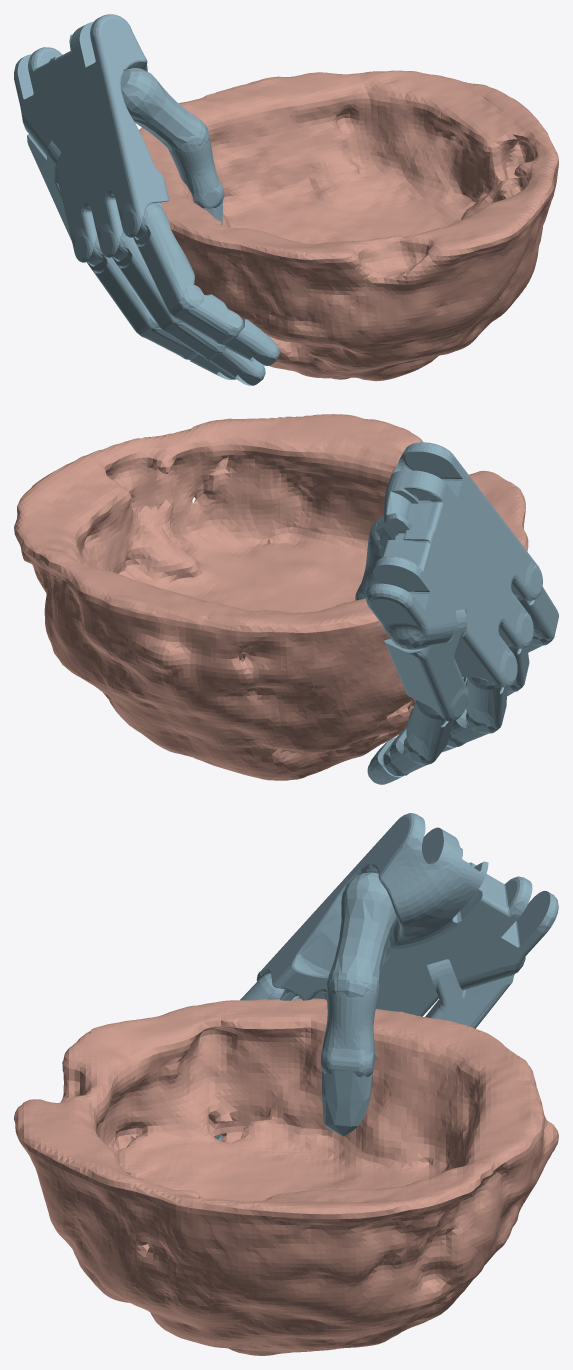
File: 3_joint.glb
3 views of the same model, one above another, from view 1: azimuth 30°, elevation 25°; view 2: azimuth 150°, elevation 25°; view 3: azimuth 270°, elevation 25° (orthographic). The views are drawn at different scales.
Visible parts, largest first — view 1: world; view 2: world; view 3: world.
Boxes of the visible parts, <box> form: world: <box>14,14,558,385</box>; world: <box>14,414,558,784</box>; world: <box>14,813,558,1355</box>.
Size of the model in its own units: 1.62 by 1.28 by 1.51.
